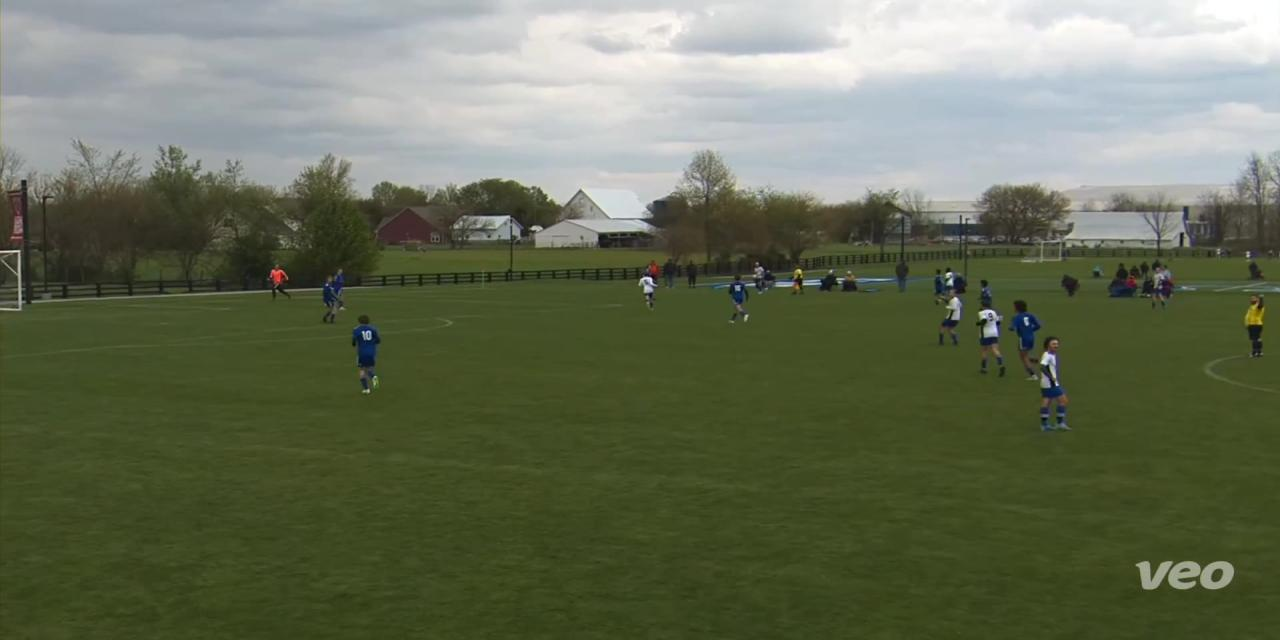goal: (0, 232, 23, 318)
